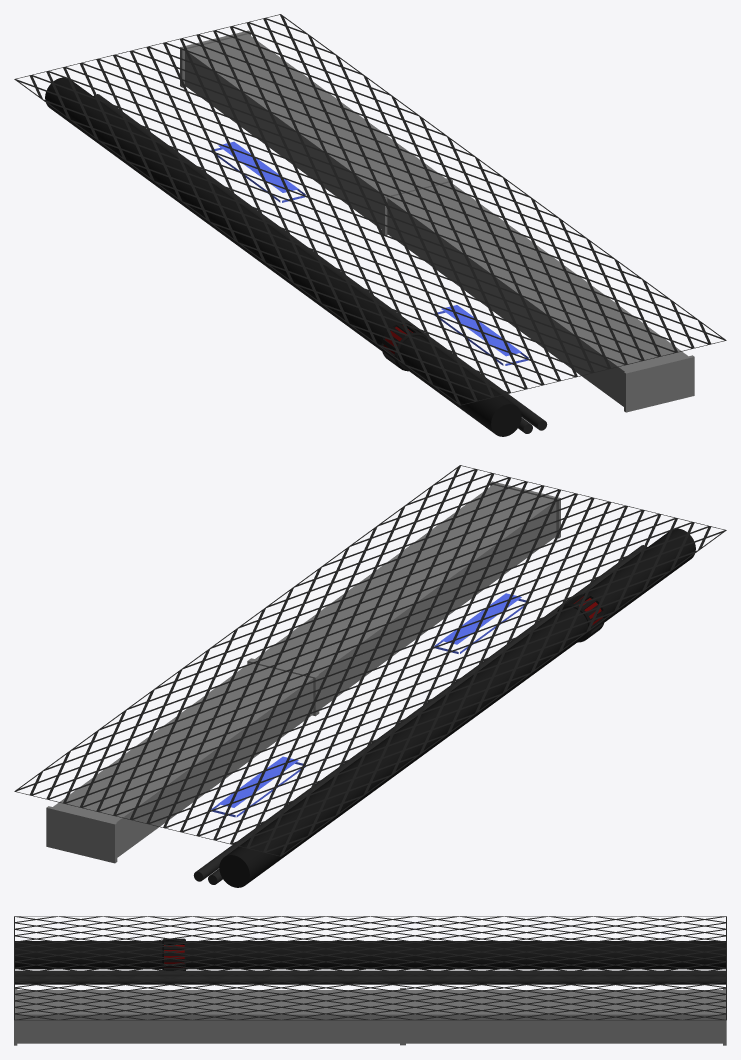
Rendered from Floor_Grate + Wires.fbx.
The picture shows the model from 3 angles, top to bottom: view 1: azimuth 30°, elevation 25°; view 2: azimuth 150°, elevation 25°; view 3: azimuth 270°, elevation 25°; orthographic projection. The views are drawn at different scales.
Visible parts, largest first — view 1: window rigtht.003; view 2: window rigtht.003; view 3: window rigtht.003.
Boxes of the visible parts, x1,y1,x2,y2 form: window rigtht.003: (14, 14, 726, 436); window rigtht.003: (14, 465, 726, 887); window rigtht.003: (14, 916, 726, 1045).
Size of the model in its own units: 138 by 25.59 by 400.
